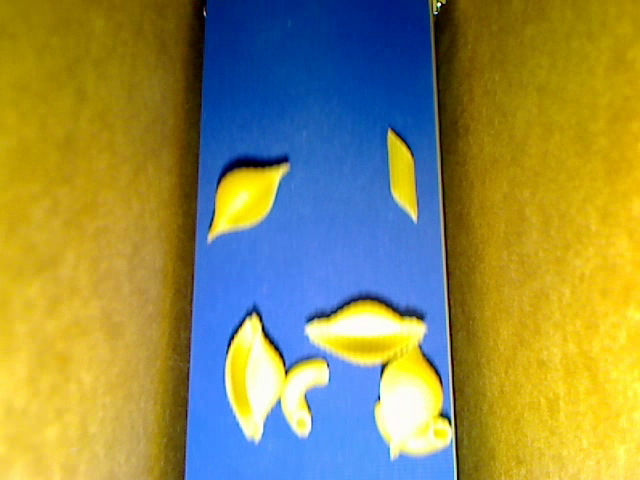elbow: (374, 399, 452, 459), (281, 356, 329, 439)
penne: (387, 126, 419, 223)
shell: (225, 311, 287, 446), (304, 300, 427, 368), (378, 343, 443, 462), (206, 162, 290, 244)
